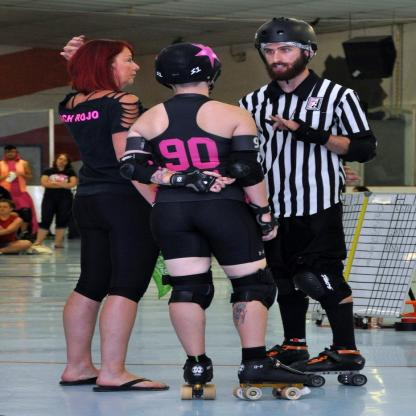Helmet: (155, 43, 226, 91), (254, 15, 322, 59)
